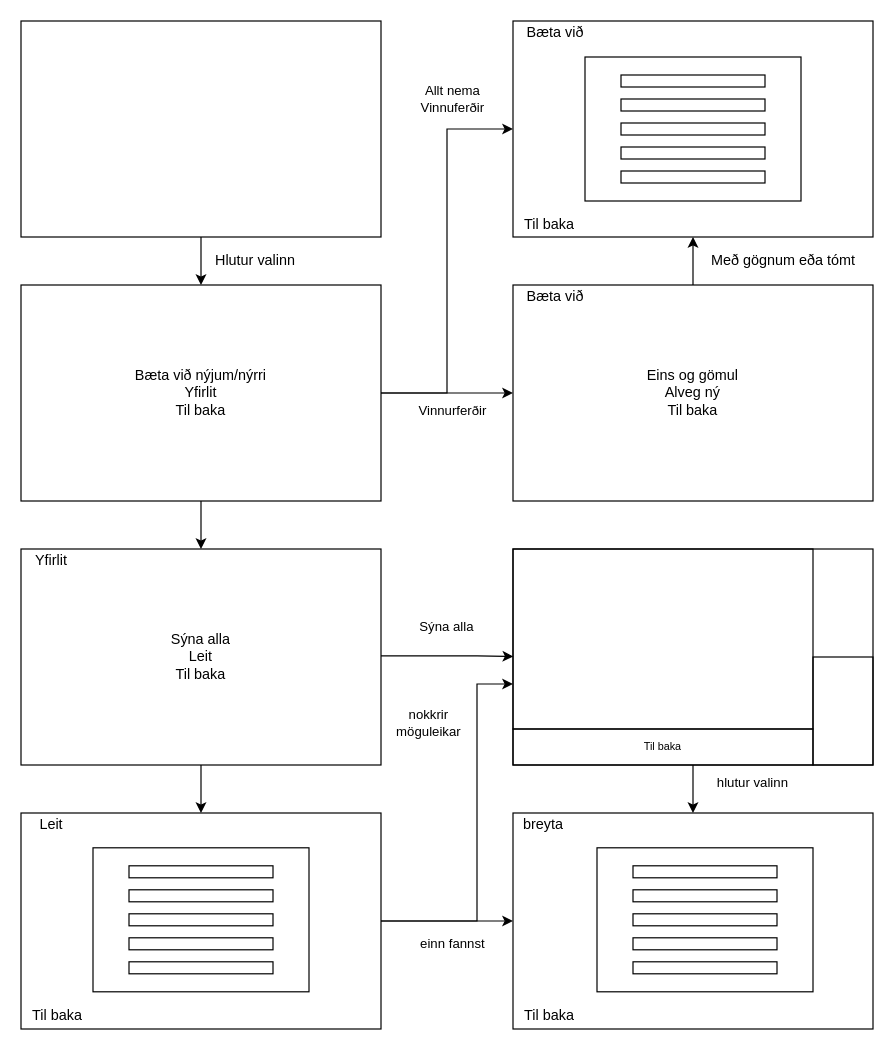
Some shapes in this 894 by 1050 pixel diagram are drawn without their labels. The shapes that lost their labels are listed below. From the top down, each one's box as (x1, y1, x2, y2) in pixels, then its label:
(20, 20, 381, 237): Vinnuferðir Áfangastaðir Starfsmenn Flugvélar Hætta
(512, 548, 813, 729): lista
